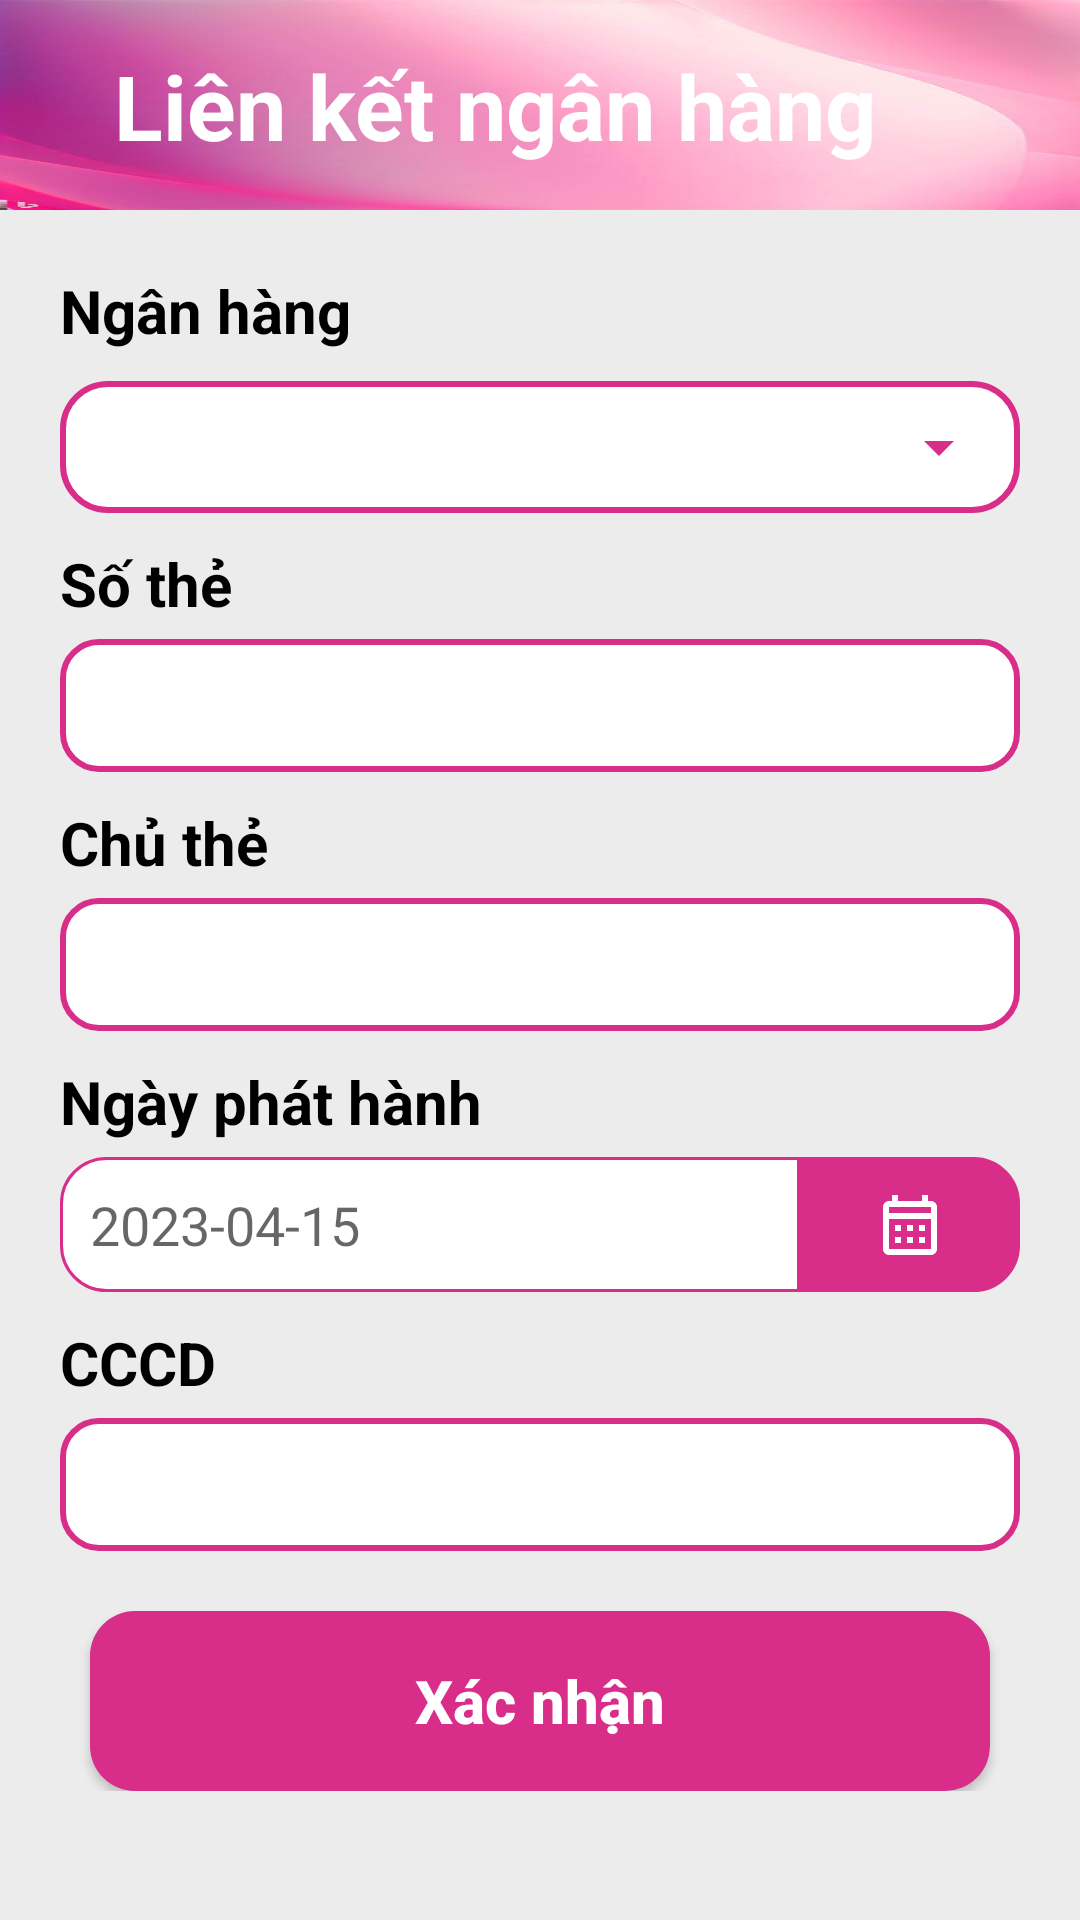

Screen size 1080px x 1920px. Icon name, then its center in pixels as point (x, y):
datepick: point (910, 1224)
